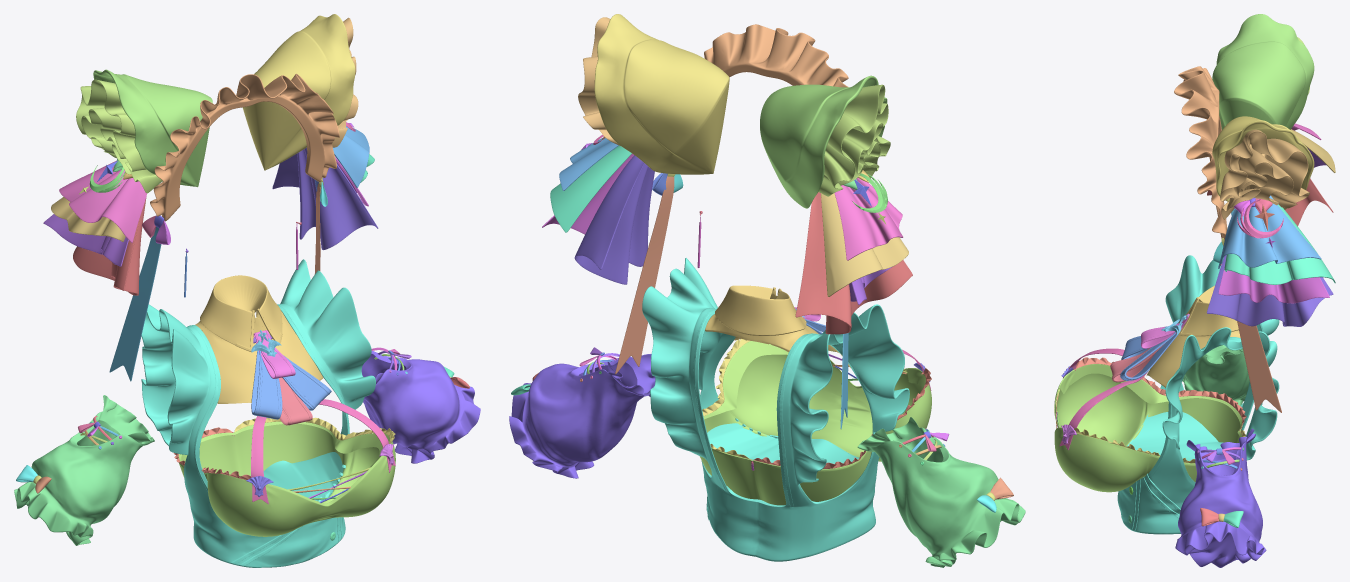
File: 服饰高模.fbx
3 views of the same model, side by side, from view 1: azimuth 30°, elevation 25°; view 2: azimuth 150°, elevation 25°; view 3: azimuth 270°, elevation 25° (orthographic). The views are drawn at different scales.
Parts seen in each view (by area): view 1: 衣服, 头饰; view 2: 衣服, 头饰; view 3: 衣服, 头饰.
Boxes of the visible parts, left/top/right/bottom form: 衣服: left=14, top=259, right=480, bottom=567; 头饰: left=43, top=14, right=378, bottom=381; 衣服: left=509, top=258, right=1025, bottom=567; 头饰: left=542, top=14, right=912, bottom=429; 衣服: left=1054, top=255, right=1279, bottom=567; 头饰: left=1174, top=14, right=1335, bottom=412.
Bounding box in the file's own units: 49.18 × 49.78 × 28.21.
